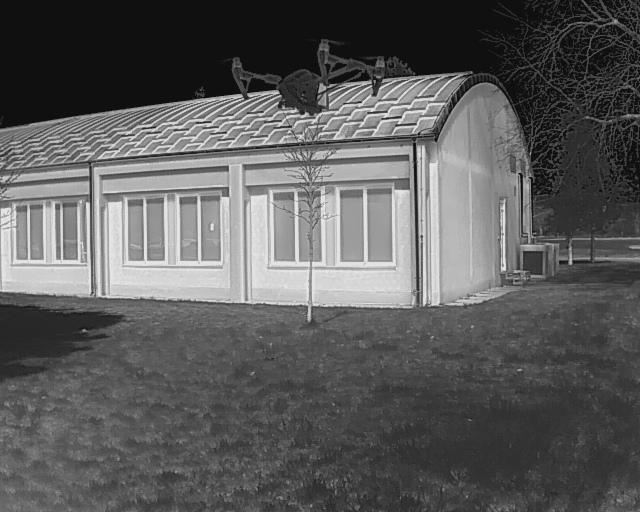drone: (202, 18, 410, 131)
